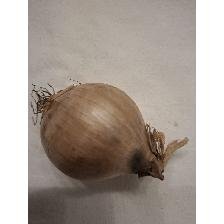Zwiebel: (30, 75, 190, 188)
